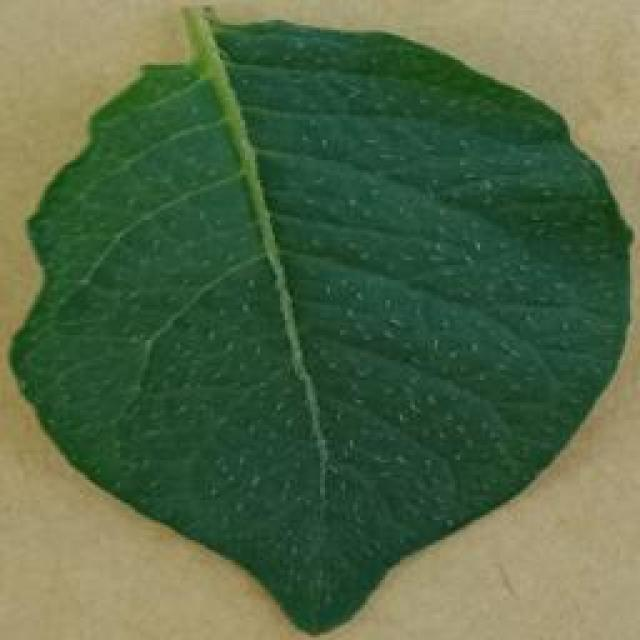Potato_Healthy: (7, 8, 625, 634)
